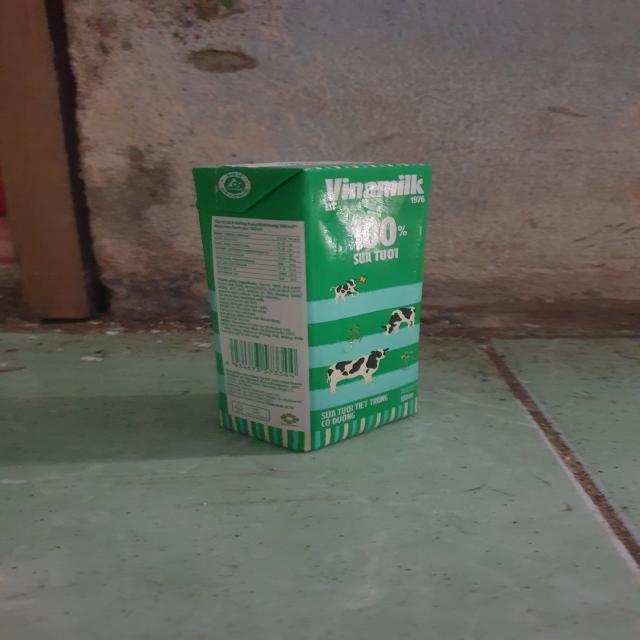Vina: (193, 159, 438, 454)
